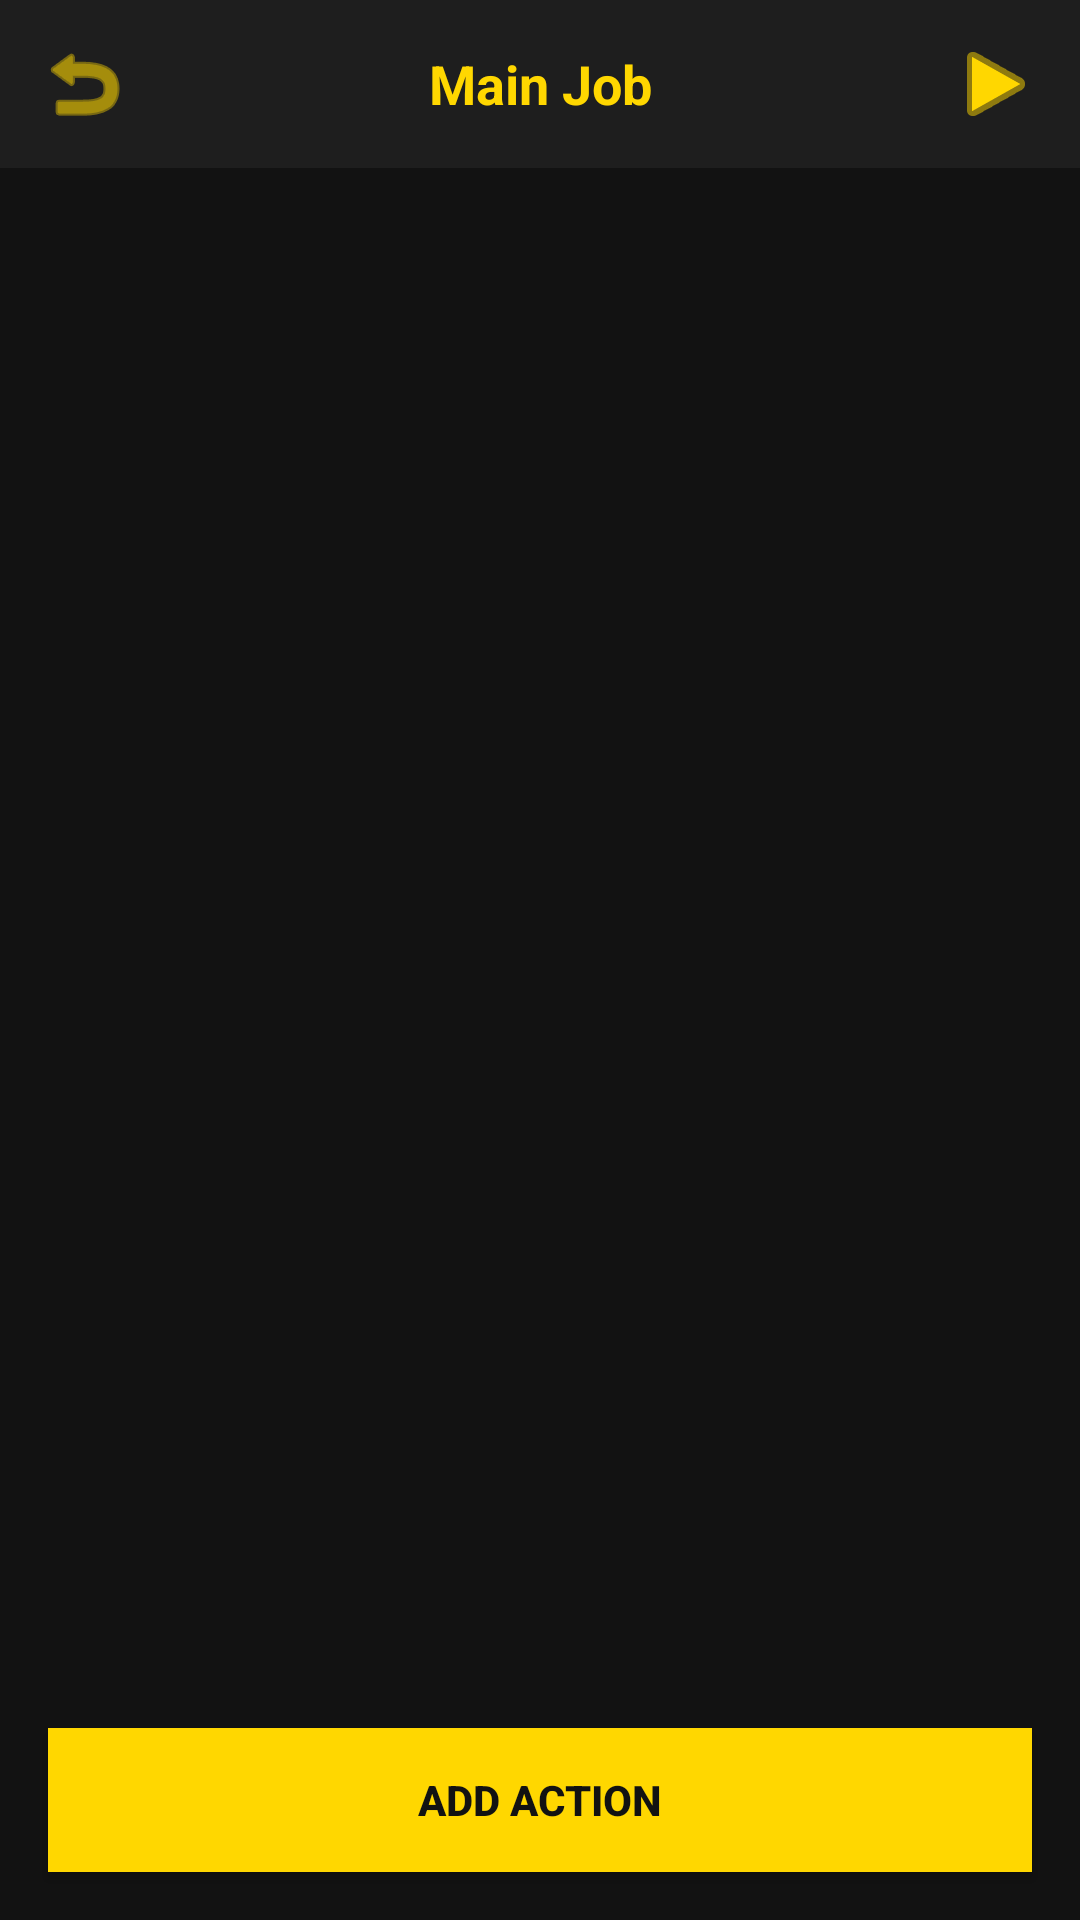

Named icons in this screenshot (1080*1920) and their bounding boxes, [x1=x1, y1=y1, x2=x2, y2=y2]:
play: [x1=967, y1=52, x2=1025, y2=116]
revert: [x1=51, y1=53, x2=120, y2=116]
